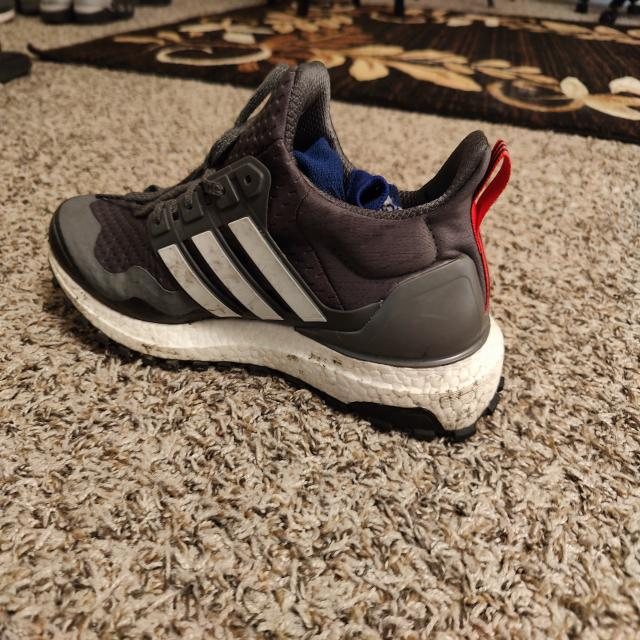black shoes: (53, 204, 468, 367)
